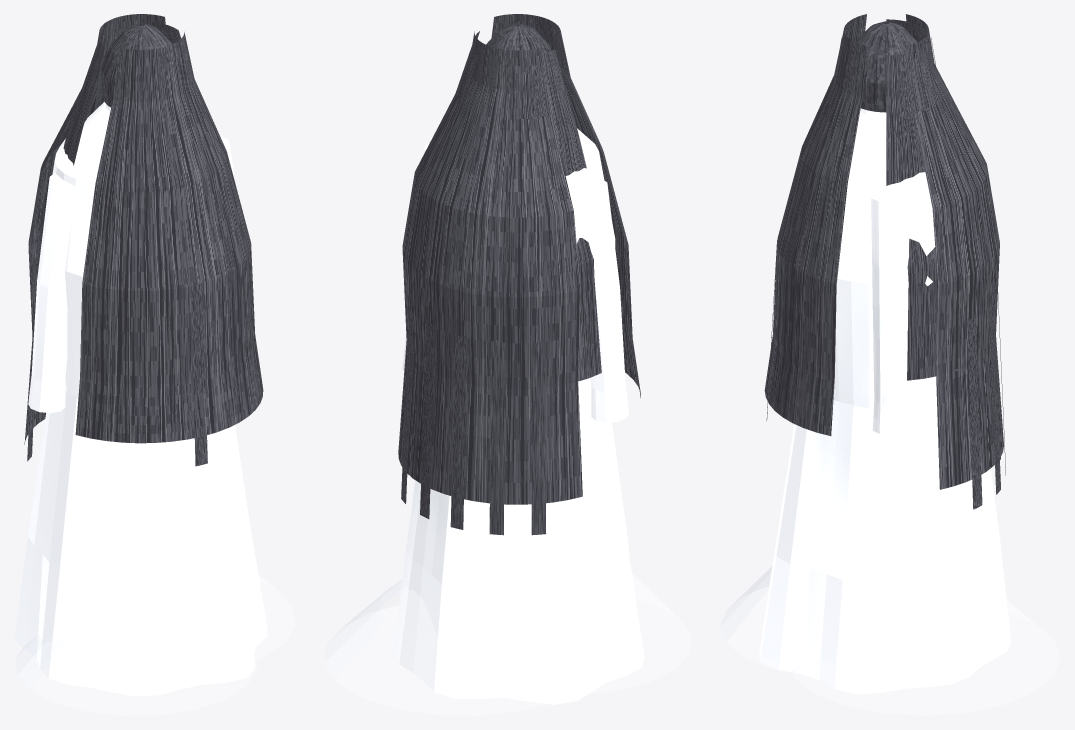
File: ma-ao-dai-trang.glb
3 renders of one model, left to right at view 1: azimuth 30°, elevation 25°; view 2: azimuth 150°, elevation 25°; view 3: azimuth 270°, elevation 25°, orthographic.
Parts seen in each view (by area): view 1: Dress, Hair_BackHair, Mist_1, Sleeve_L, Hair_Veil, Mist_0, Hair_Head, Hair_Strand_5, Hair_Curtain_1; view 2: Hair_Veil, Dress, Mist_0, Hair_Curtain_1, Sleeve_L, Mist_1, Hair_BackHair, Hair_Strand_1, Hair_Strand_0, Hair_Strand_2, Hair_Strand_3, Hair_Head (+2 smaller); view 3: Dress, Hair_Veil, Hair_BackHair, Mist_0, Hair_Curtain_0, Sleeve_R, Mist_1, Hair_Head, Hair_Strand_4, Hair_Strand_3.
Boxes of the visible parts, x1,y1,x2,y2 form: Dress: (14, 102, 267, 696); Hair_BackHair: (75, 32, 263, 443); Mist_1: (15, 625, 256, 715); Sleeve_L: (28, 173, 77, 413); Hair_Veil: (24, 14, 166, 444); Mist_0: (253, 575, 295, 660); Hair_Head: (101, 23, 172, 107); Hair_Strand_5: (162, 55, 207, 466); Hair_Curtain_1: (32, 30, 104, 341); Hair_Veil: (398, 31, 582, 504); Dress: (393, 128, 644, 704); Mist_0: (324, 579, 545, 715); Hair_Curtain_1: (517, 49, 601, 389); Sleeve_L: (581, 178, 628, 422); Mist_1: (589, 574, 691, 693); Hair_BackHair: (491, 14, 640, 398); Hair_Strand_1: (489, 58, 512, 535); Hair_Strand_0: (523, 58, 546, 535); Hair_Strand_2: (450, 56, 497, 529); Hair_Strand_3: (420, 51, 484, 518); Hair_Head: (486, 23, 551, 54); Dress: (759, 112, 1010, 694); Hair_Veil: (905, 14, 1003, 489); Hair_BackHair: (764, 14, 866, 435); Mist_0: (791, 591, 1060, 715); Hair_Curtain_0: (886, 53, 981, 380); Sleeve_R: (871, 197, 909, 435); Mist_1: (720, 566, 806, 675); Hair_Head: (855, 21, 916, 112); Hair_Strand_4: (919, 49, 982, 509); Hair_Strand_3: (927, 43, 1000, 494).
Size of the model in its own units: 0.82 by 1.68 by 0.84.
Materials: 4 (3 with a texture image).
